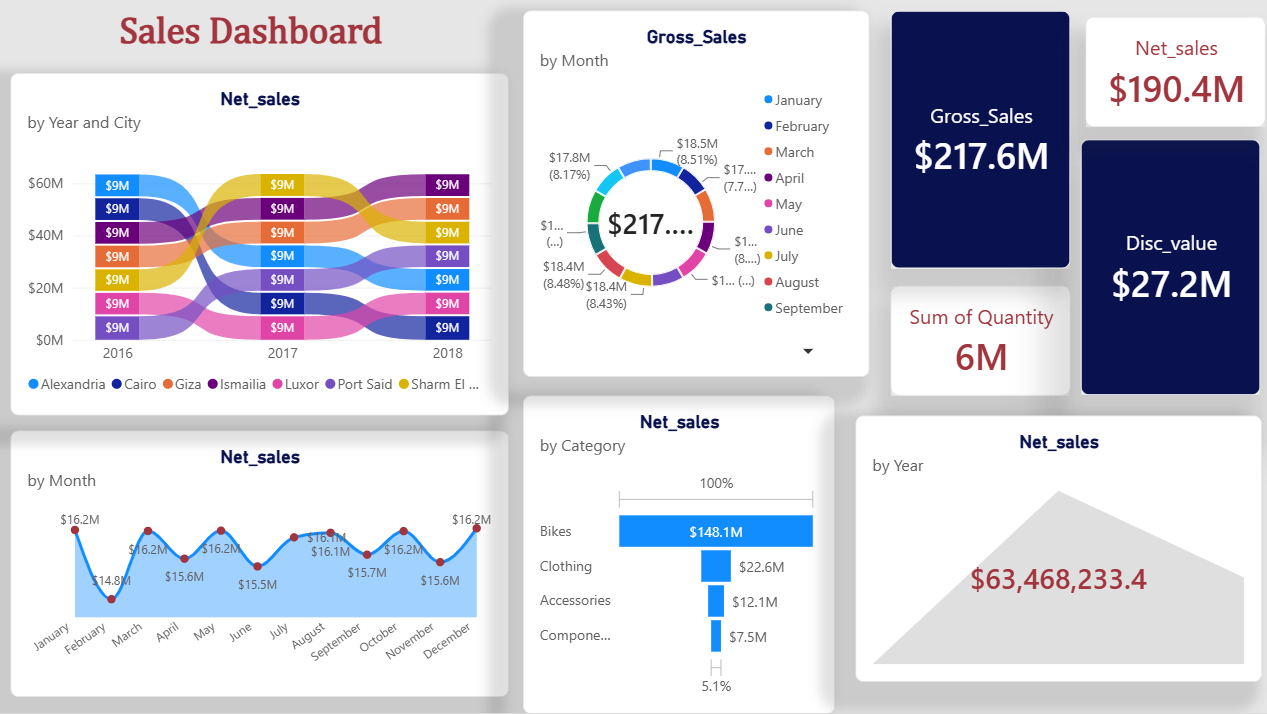

The dashboard page shown, as its layout file describes it:
{"tool":"powerbi","page":{"name":"Page 1","canvas":[1280,720],"ordinal":0},"visuals":[{"type":"cardVisual","fields":{"Data":["Sum(SalesT.Quantity)"]},"box":[898,292,180,110],"z":3},{"type":"cardVisual","fields":{"Data":["SalesT.Disc_value"]},"box":[1088,146,180,256],"z":4},{"type":"cardVisual","fields":{"Data":["SalesT.Gross_Sales"]},"box":[898,18,180,258],"z":5},{"type":"cardVisual","fields":{"Data":["SalesT.Net_sales"]},"box":[1092,24,180,110],"z":6},{"type":"textbox","box":[120,18,276,52],"z":7},{"type":"lineChart","fields":{"Category":["SalesT.Date.Variation.Date Hierarchy.Year","SalesT.Date.Variation.Date Hierarchy.Month"],"Y":["SalesT.Net_sales"]},"box":[18,438,498,266],"z":9},{"type":"funnel","fields":{"Category":["Product.Category"],"Y":["SalesT.Net_sales"]},"box":[530,402,312,318],"z":10},{"type":"ribbonChart","fields":{"Category":["SalesT.Date.Variation.Date Hierarchy.Year"],"Series":["Location.City"],"Y":["SalesT.Net_sales"]},"box":[18,80,498,342],"z":11},{"type":"kpi","fields":{"Indicator":["SalesT.Net_sales"],"TrendLine":["SalesT.Date.Variation.Date Hierarchy.Year"]},"box":[862,422,406,266],"z":12},{"type":"donutChart","fields":{"Category":["SalesT.Date.Variation.Date Hierarchy.Month"],"Y":["SalesT.Gross_Sales"]},"box":[530,18,346,366],"z":13}]}

Visuals, with their boxes in screenshot pixels (x1, y1, x2, y2), scaled from the page's 1280x720 canvas onto the 1267x714 screenshot:
cardVisual - Sum(SalesT.Quantity): 889 290 1067 399
cardVisual - SalesT.Disc_value: 1077 145 1255 399
cardVisual - SalesT.Gross_Sales: 889 18 1067 274
cardVisual - SalesT.Net_sales: 1081 24 1259 133
textbox: 119 18 392 69
lineChart - SalesT.Date.Variation.Date Hierarchy.Year x SalesT.Date.Variation.Date Hierarchy.Month: 18 434 511 698
funnel - Product.Category x SalesT.Net_sales: 525 399 833 713
ribbonChart - SalesT.Date.Variation.Date Hierarchy.Year x Location.City: 18 79 511 418
kpi - SalesT.Net_sales x SalesT.Date.Variation.Date Hierarchy.Year: 853 418 1255 682
donutChart - SalesT.Date.Variation.Date Hierarchy.Month x SalesT.Gross_Sales: 525 18 867 381
